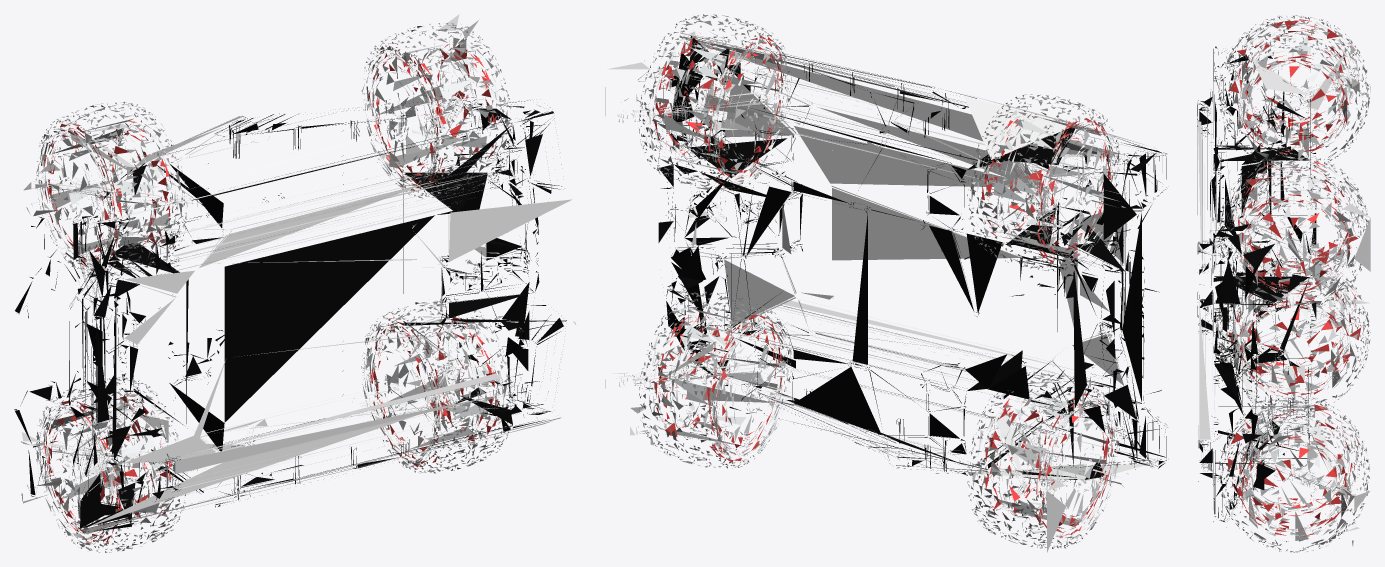
Rendered from scout.glb.
The picture shows the model from 3 angles, left to right: view 1: azimuth 30°, elevation 25°; view 2: azimuth 150°, elevation 25°; view 3: azimuth 270°, elevation 25°; orthographic projection. The views are drawn at different scales.
Visible parts, largest first — view 1: geometry6; view 2: geometry6; view 3: geometry6.
Part boxes in pixels (x1,y1,x2,y2): geometry6: (14,14,576,552); geometry6: (605,14,1167,552); geometry6: (1197,15,1370,552).
Size of the model in its own units: 0.5606 by 0.4406 by 0.1822.
Materials: 1 (1 with a texture image).
